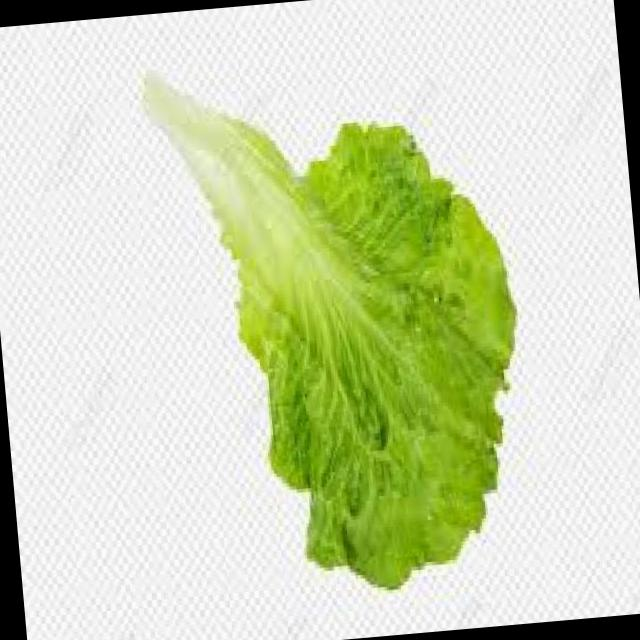Lettuce-Ready-to-Harvest: (144, 74, 514, 586)
